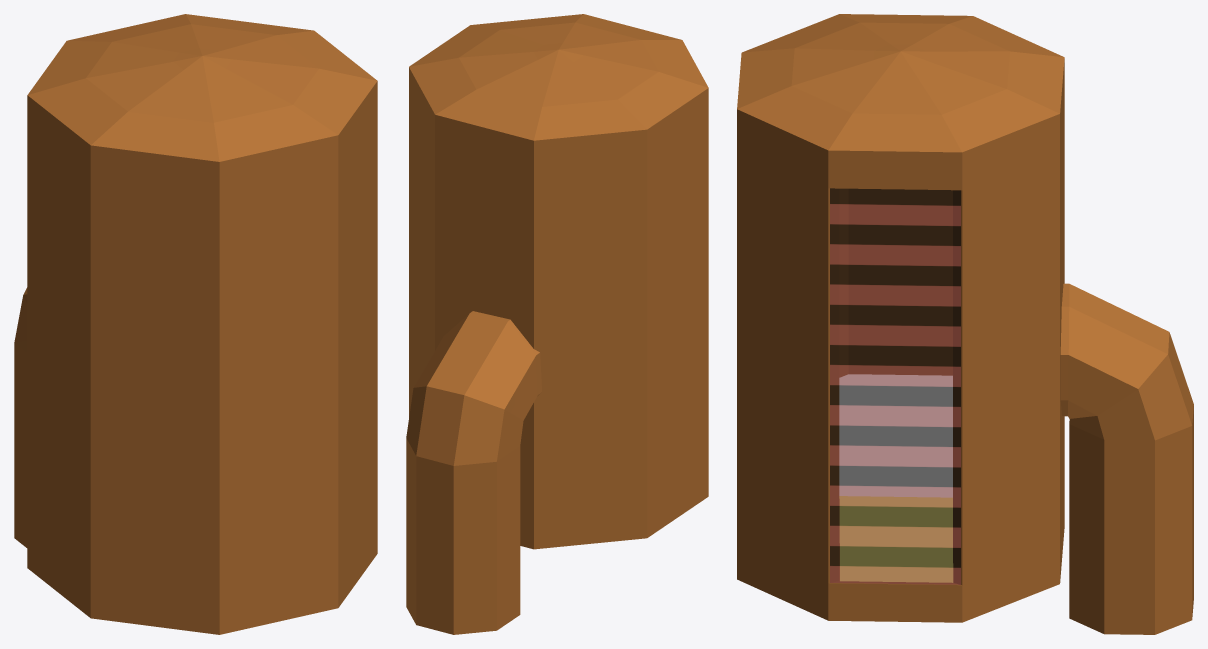
File: VAT40.glb
The picture shows the model from 3 angles, left to right: view 1: azimuth 30°, elevation 25°; view 2: azimuth 150°, elevation 25°; view 3: azimuth 270°, elevation 25°; orthographic projection. The views are drawn at different scales.
Visible parts, largest first — view 1: Cylinder, Cylinder.001; view 2: Cylinder, Cylinder.001; view 3: Cylinder, glass, Cylinder.001, liquidHeight.
Boxes of the visible parts, left/top/right/bottom form: Cylinder: left=27, top=14, right=377, bottom=634; Cylinder.001: left=14, top=287, right=27, bottom=547; Cylinder: left=409, top=14, right=708, bottom=549; Cylinder.001: left=406, top=311, right=541, bottom=634; Cylinder: left=737, top=14, right=1064, bottom=622; glass: left=830, top=188, right=960, bottom=584; Cylinder.001: left=1060, top=283, right=1193, bottom=634; liquidHeight: left=839, top=374, right=952, bottom=582.
Bounding box in the file's own units: 1.82 × 3.44 × 2.54.
4 materials, 1 textured.
